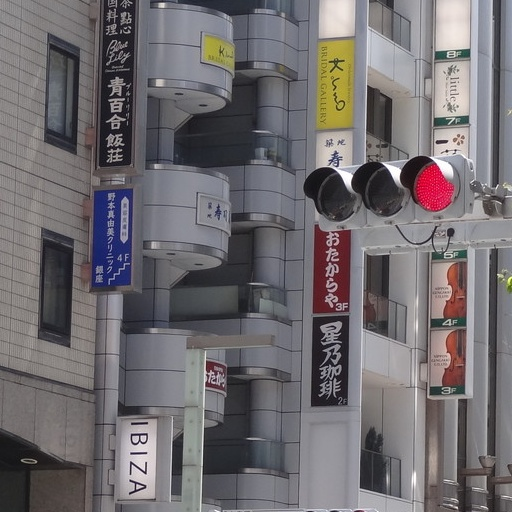Traffic_Signal_Red: (303, 147, 477, 223)
